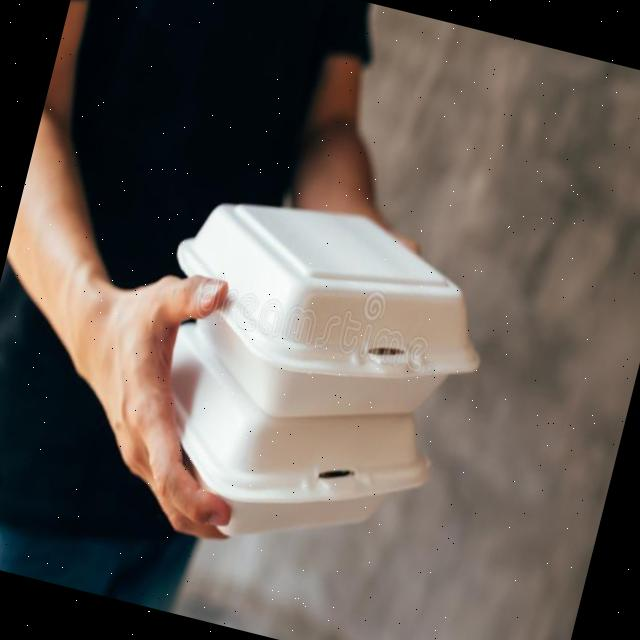styrofoam: (142, 171, 508, 463)
